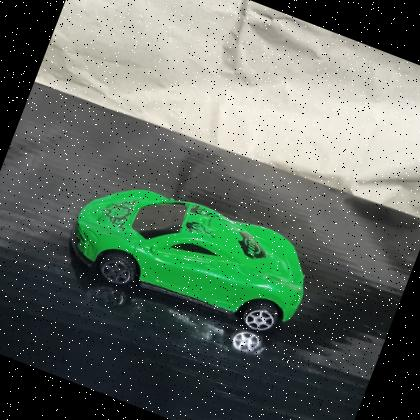Car: (54, 157, 326, 354)
